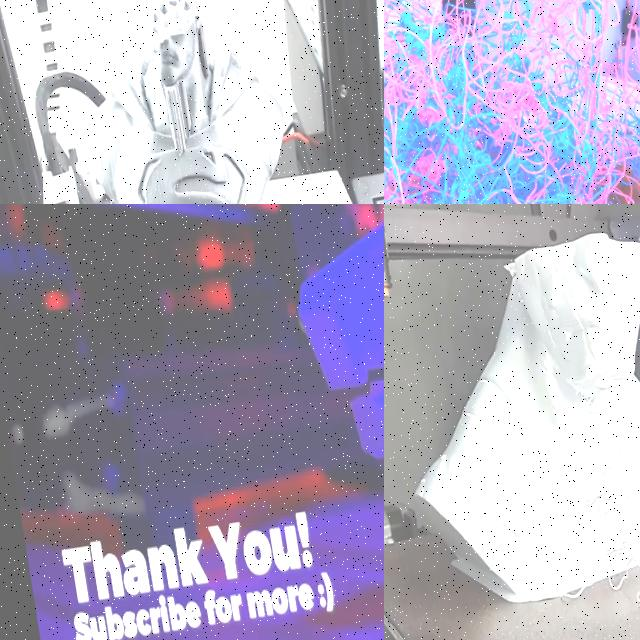spaghetti: (384, 0, 640, 204), (491, 355, 640, 606)
